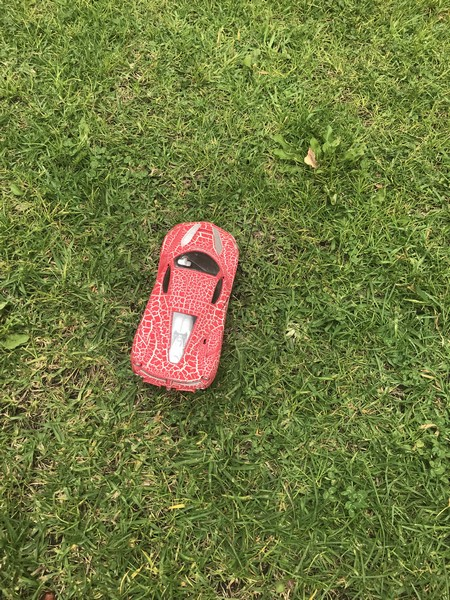RC: (129, 219, 244, 395)
